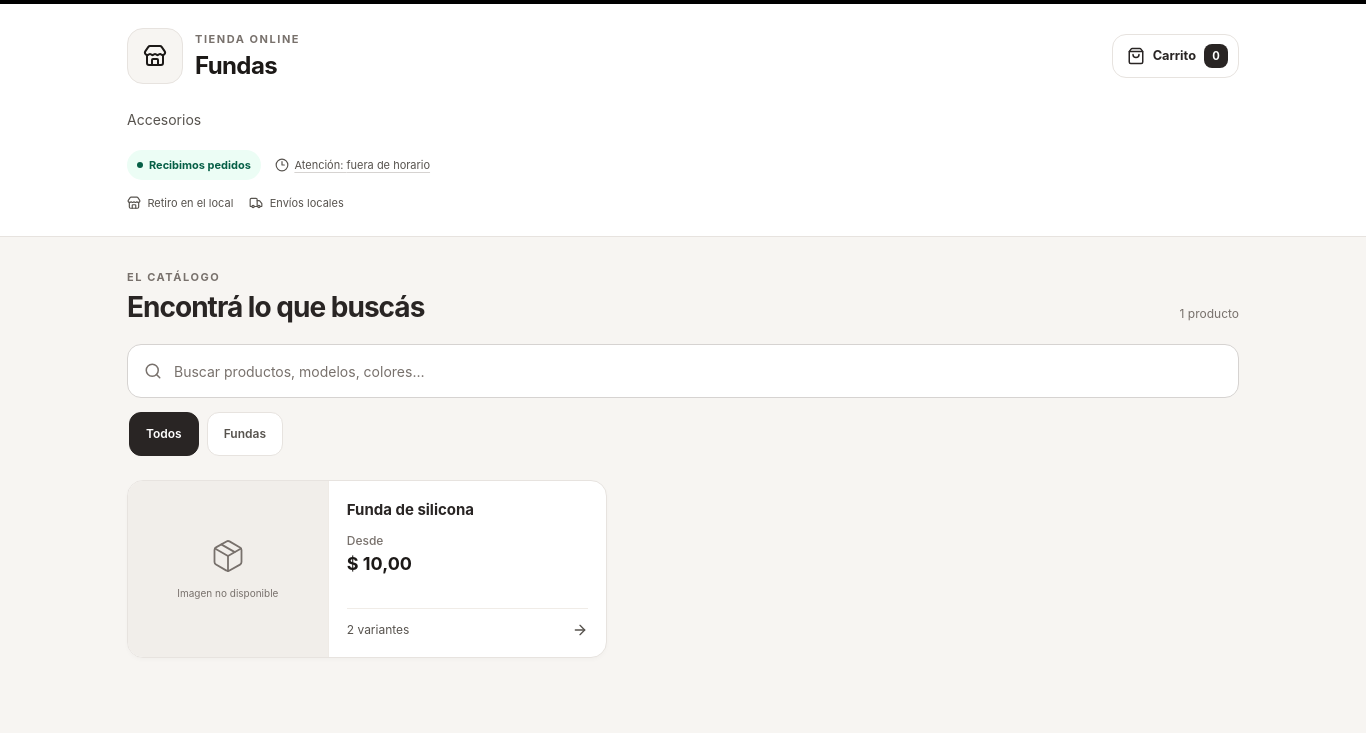
it: shared catalog storefront › clears only the search while retaining the selected category
The width and height of the screenshot is (1366, 733).
Click the button "Fundas" at (245, 434), box [207, 412, 283, 456]
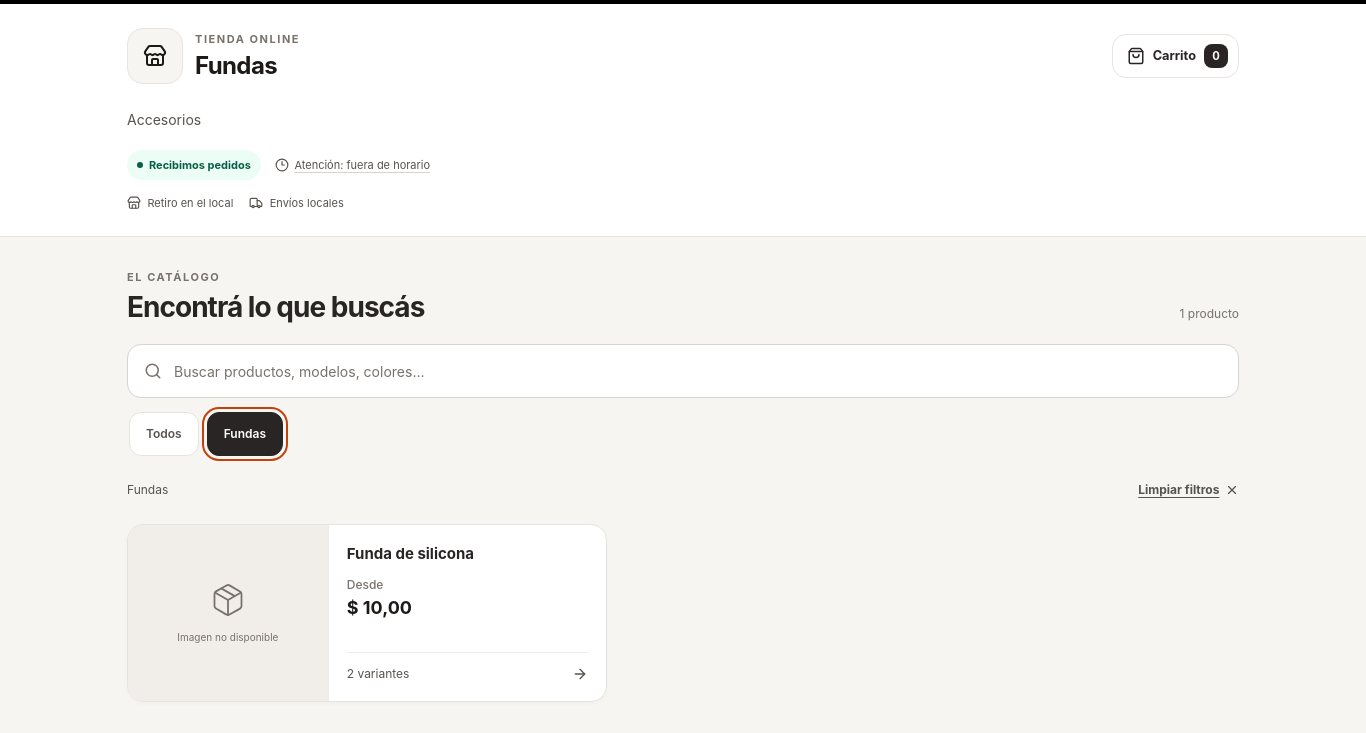
Type "no existe" into the field labelled "Buscar productos" at (698, 371), box [174, 345, 1222, 397]
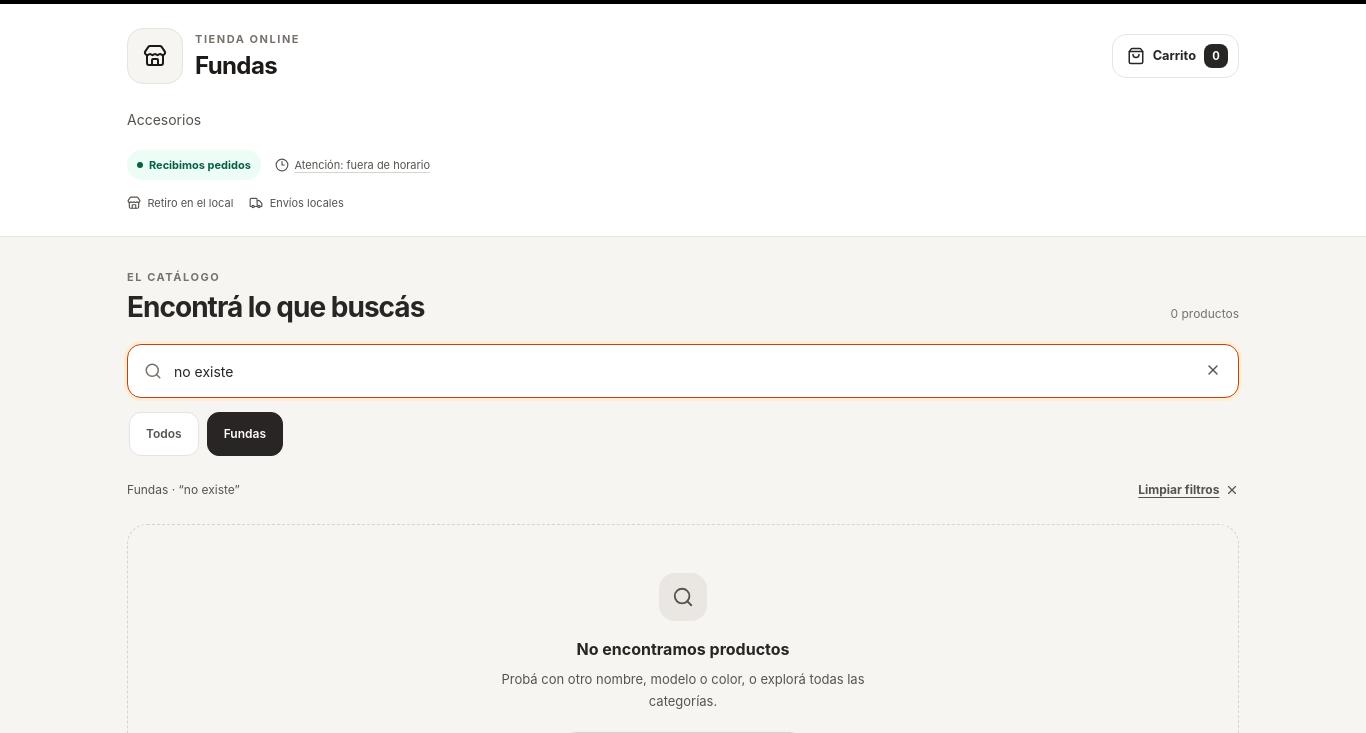
Click the button named "Limpiar búsqueda" at (1213, 370), box [1191, 348, 1235, 392]
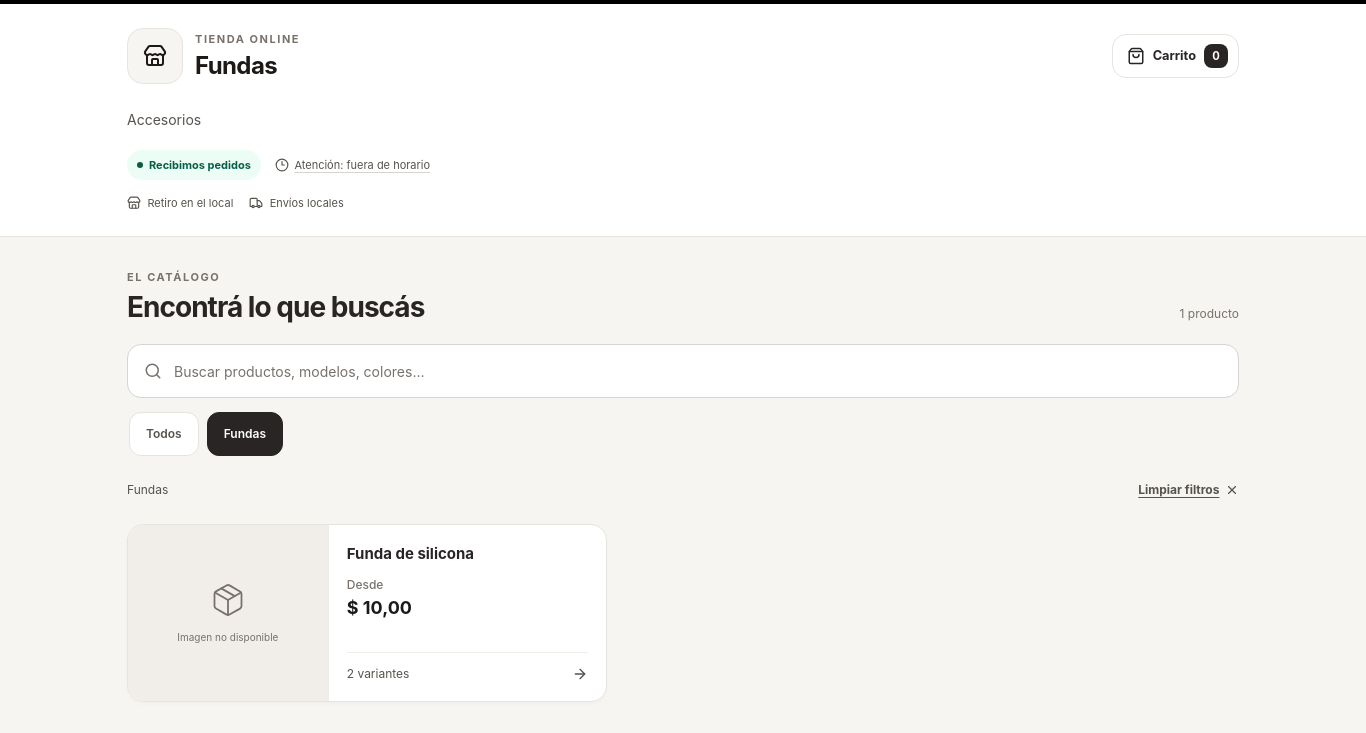
Expected: the heading "Funda de silicona" is shown, [347, 544, 474, 563]
